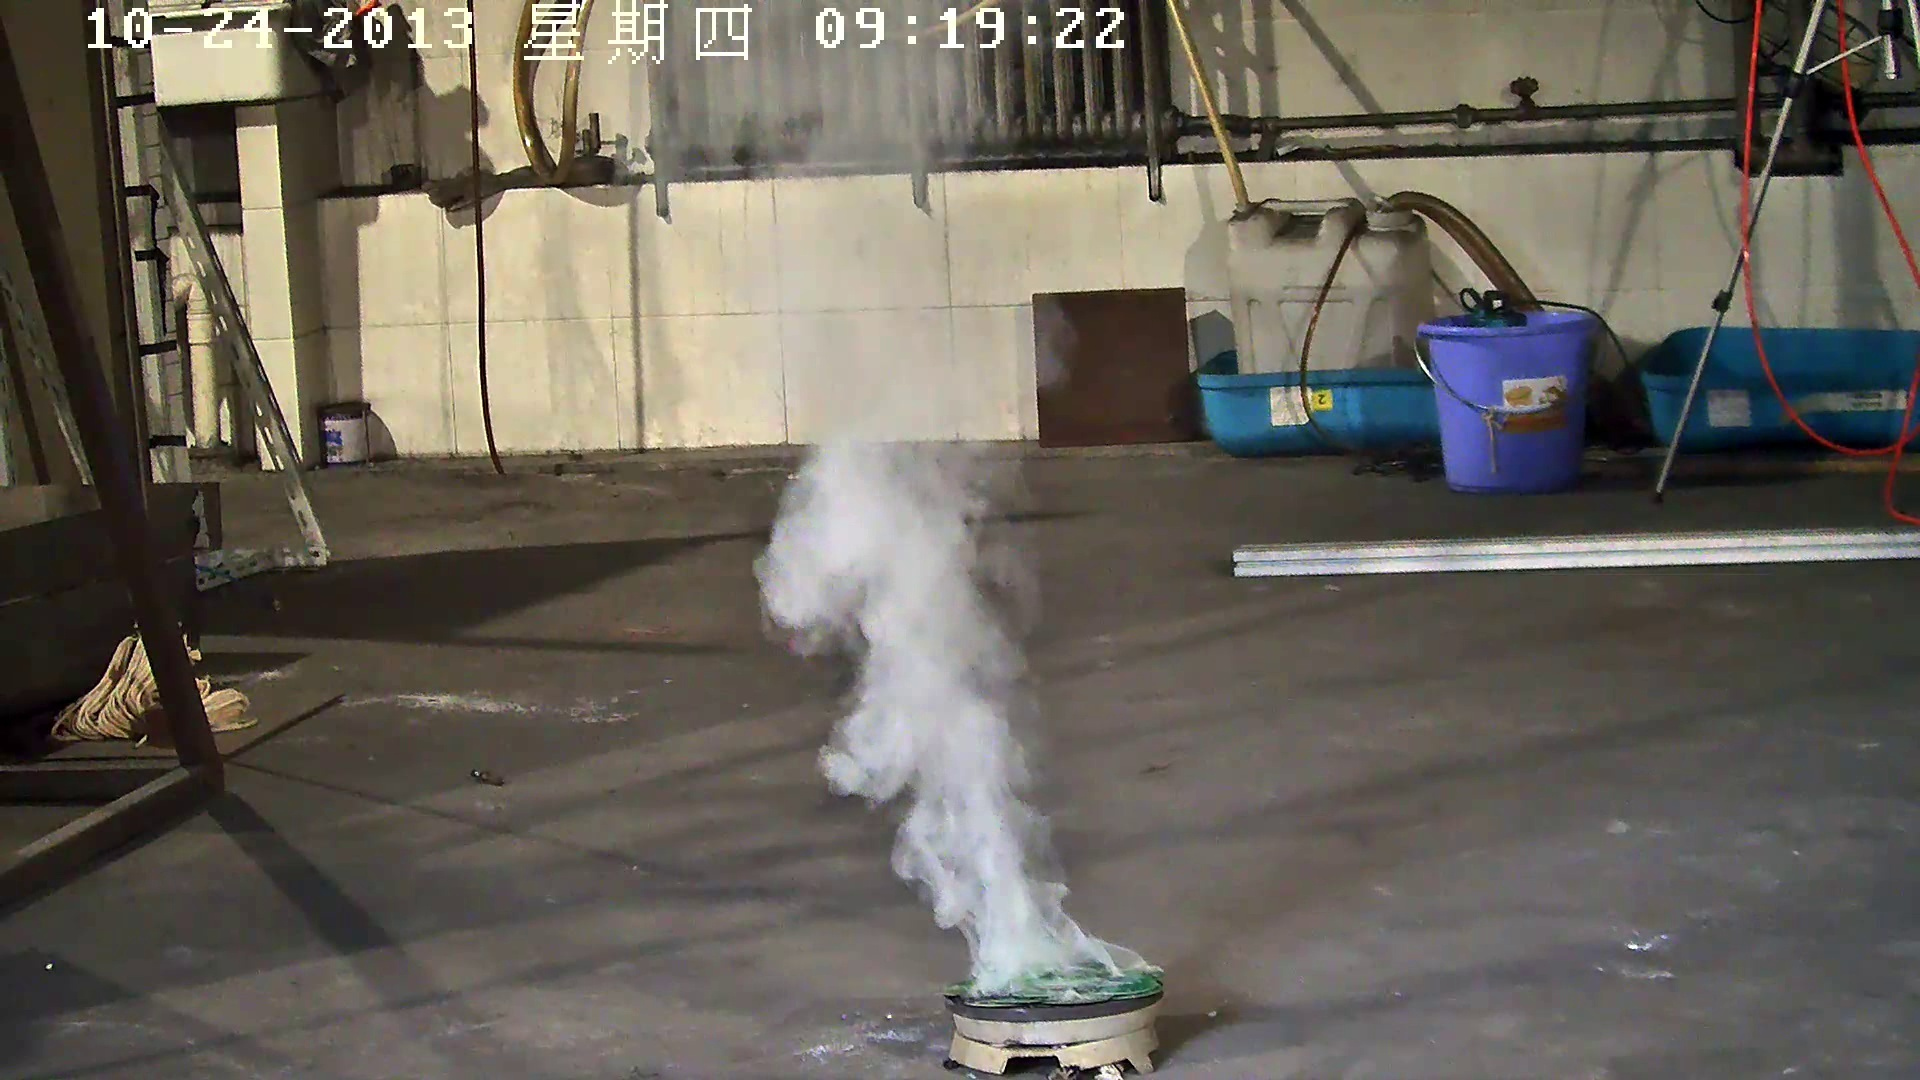smoke: (655, 26, 1154, 975)
